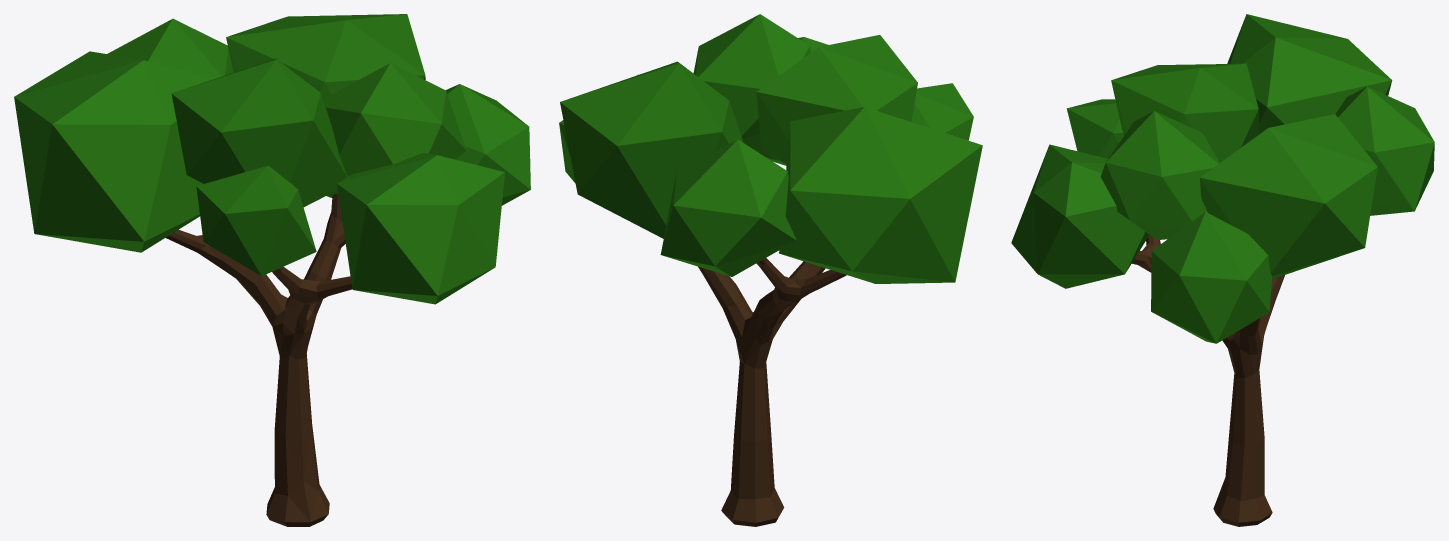
Rendered from Tree.fbx.
3 renders of one model, left to right at view 1: azimuth 30°, elevation 25°; view 2: azimuth 150°, elevation 25°; view 3: azimuth 270°, elevation 25°, orthographic. The views are drawn at different scales.
Parts seen in each view (by area): view 1: Tree; view 2: Tree; view 3: Tree.
Boxes of the visible parts, x1,y1,x2,y2 form: Tree: [14, 14, 530, 526]; Tree: [559, 14, 982, 526]; Tree: [1011, 14, 1434, 526].
Size of the model in its own units: 786 by 805 by 717.
